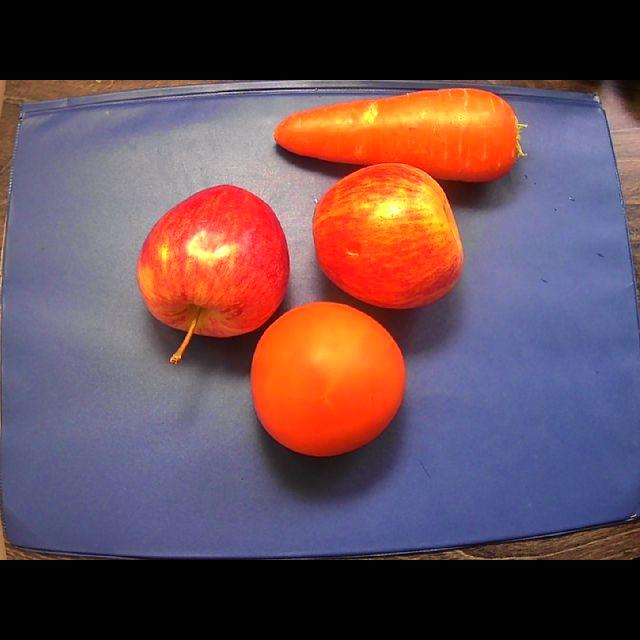manzana: (137, 185, 289, 363), (313, 163, 463, 308)
tomate: (251, 302, 405, 456)
zanahoria: (274, 88, 525, 180)
